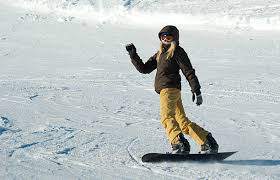snowboarder: (113, 20, 255, 169)
